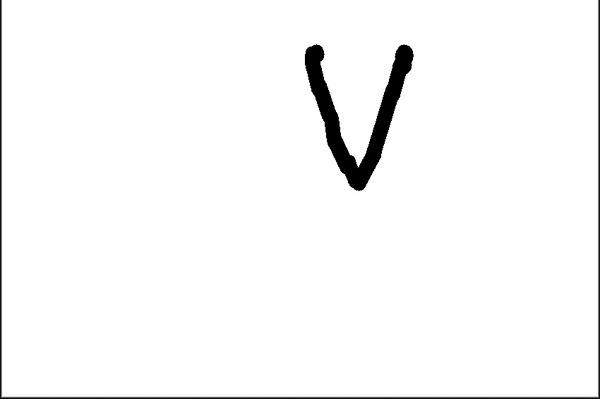V: (293, 34, 436, 201)
